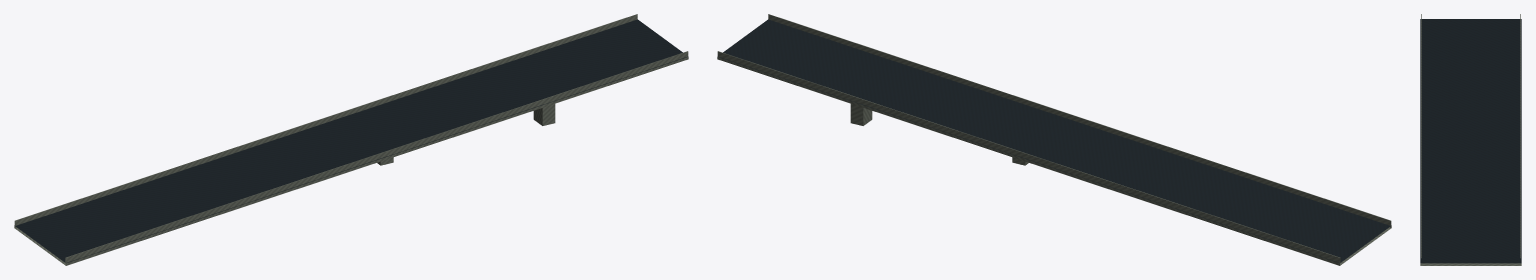
The model's file is elevated_ramp_4lane_100m_ShadowProxy.glb.
3 renders of one model, left to right at view 1: azimuth 30°, elevation 25°; view 2: azimuth 150°, elevation 25°; view 3: azimuth 270°, elevation 25°, orthographic.
Visible parts, largest first — view 1: elevated_ramp_4lane_100m__deck.003, elevated_ramp_4lane_100m__pier.003; view 2: elevated_ramp_4lane_100m__deck.003, elevated_ramp_4lane_100m__pier.003; view 3: elevated_ramp_4lane_100m__deck.003.
Part boxes in pixels (x1,y1,x2,y2): elevated_ramp_4lane_100m__deck.003: (14, 14, 688, 265); elevated_ramp_4lane_100m__pier.003: (377, 104, 555, 165); elevated_ramp_4lane_100m__deck.003: (717, 14, 1391, 265); elevated_ramp_4lane_100m__pier.003: (850, 104, 1028, 165); elevated_ramp_4lane_100m__deck.003: (1420, 14, 1521, 265).
Size of the model in its own units: 100 by 9.58 by 14.4.
2 materials, 2 textured.
